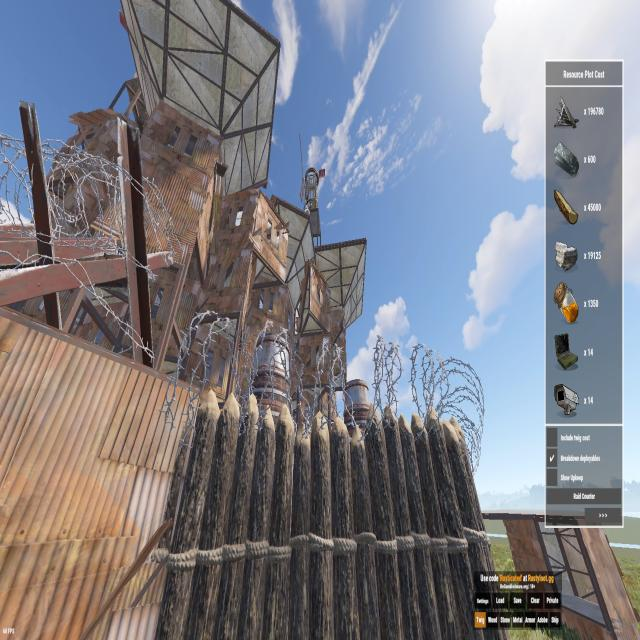Player: (303, 196, 310, 215)
